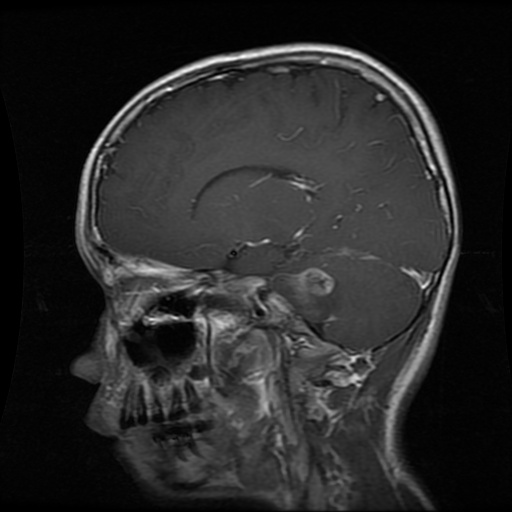glioma: (285, 268, 337, 319)
